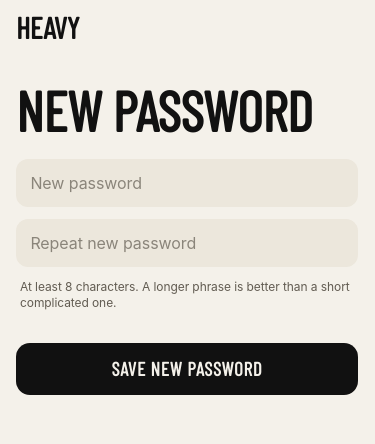
Scenario: reset password page › a good link shows the form; short and mismatched passwords are refused before anything is sent
In the password field labelled "New password": (187, 183) [16, 159, 358, 207], type "short"
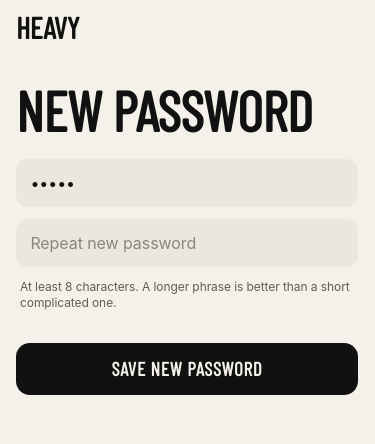
In the password field labelled "Repeat new password": (187, 243) [16, 219, 358, 267], type "short"
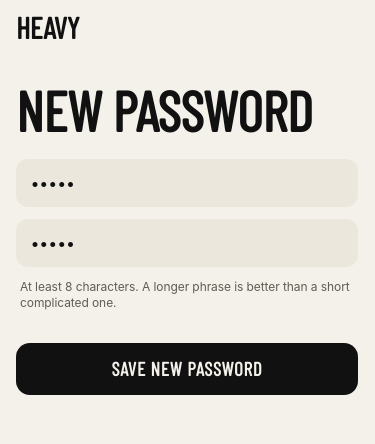
Submit the form, box [16, 159, 358, 395]
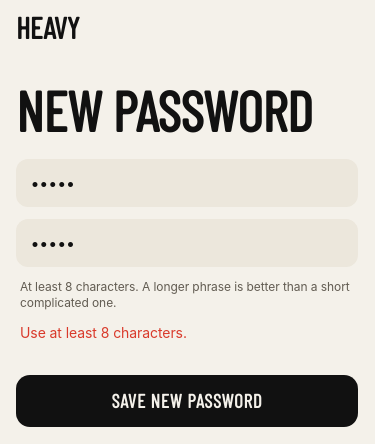
expect the text "At least 8 characters" is shown: met, box [20, 279, 350, 310]
In the password field named "New password": (187, 183) [16, 159, 358, 207], type "longenough1"
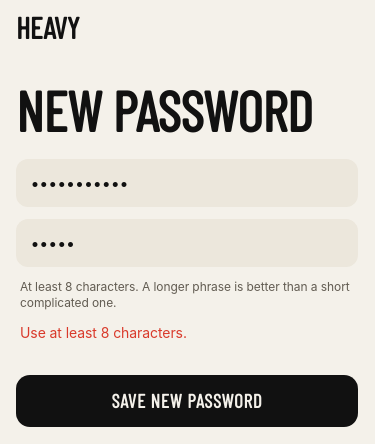
In the password field named "Repeat new password": (187, 243) [16, 219, 358, 267], type "longenough2"
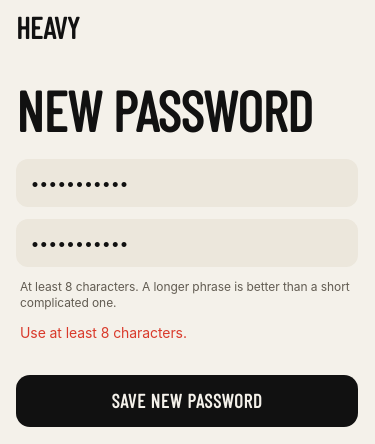
Submit the form, box [16, 159, 358, 427]
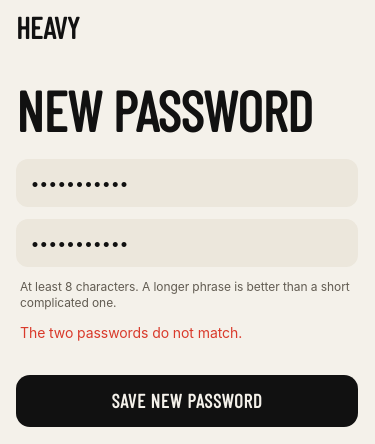
expect the text "do not match" is shown: met, box [20, 324, 242, 341]
